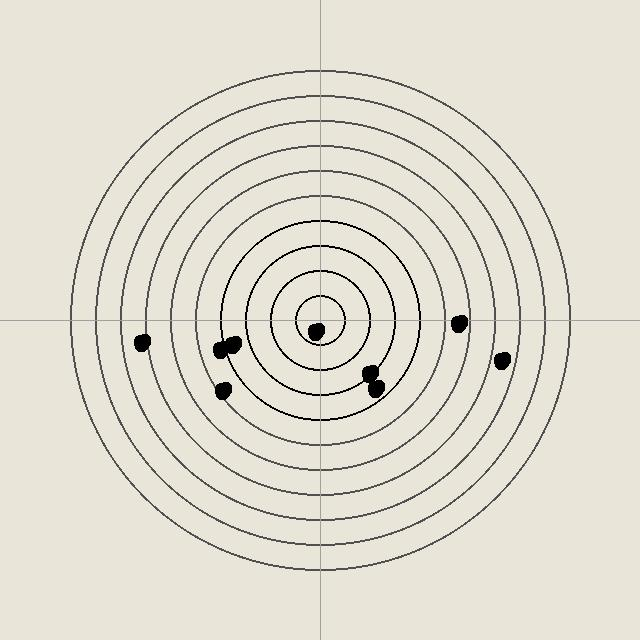horizontal_scatter: (448, 313, 468, 333), (365, 378, 385, 398), (131, 332, 151, 352), (222, 334, 242, 354), (359, 363, 379, 383), (491, 350, 511, 370), (212, 380, 232, 400), (210, 339, 230, 359), (305, 321, 325, 341)
